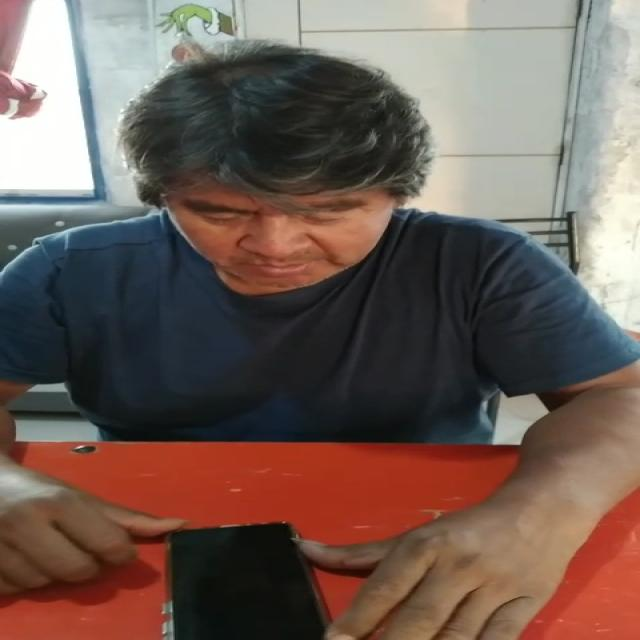9_cabeza_baja: (131, 50, 418, 287)
